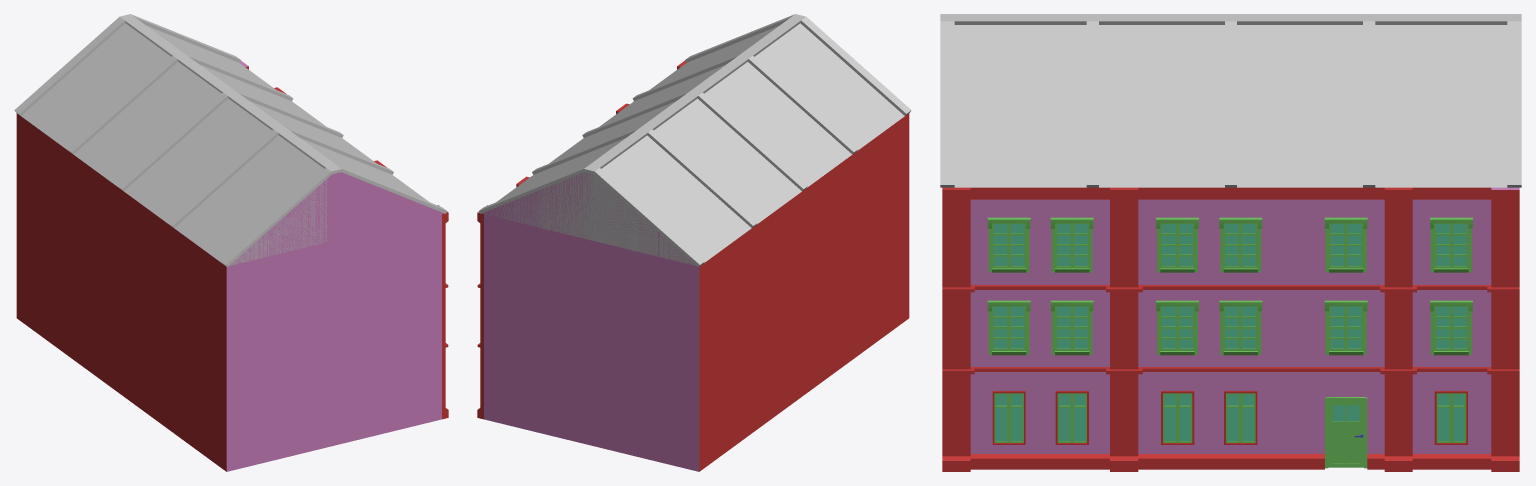
The model's file is Tenement House 2.fbx.
3 views of the same model, side by side, from view 1: azimuth 30°, elevation 25°; view 2: azimuth 150°, elevation 25°; view 3: azimuth 270°, elevation 25° (orthographic). The views are drawn at different scales.
Parts seen in each view (by area): view 1: Tenement_House, Roof, Dark_Walls; view 2: Roof, Tenement_House, Dark_Walls; view 3: Roof, Tenement_House, Dark_Walls, Doors_Windows, Glass.
Boxes of the visible parts, x1,y1,x2,y2 form: Tenement_House: (226,60,444,471); Roof: (14,14,447,266); Dark_Walls: (16,66,448,471); Roof: (478,14,911,266); Tenement_House: (477,172,699,471); Dark_Walls: (477,60,909,471); Roof: (940,14,1521,187); Tenement_House: (970,187,1519,453); Dark_Walls: (942,187,1519,471); Doors_Windows: (987,217,1472,468); Glass: (993,224,1466,440).
Size of the model in its own units: 1313 by 1548 by 2154.
